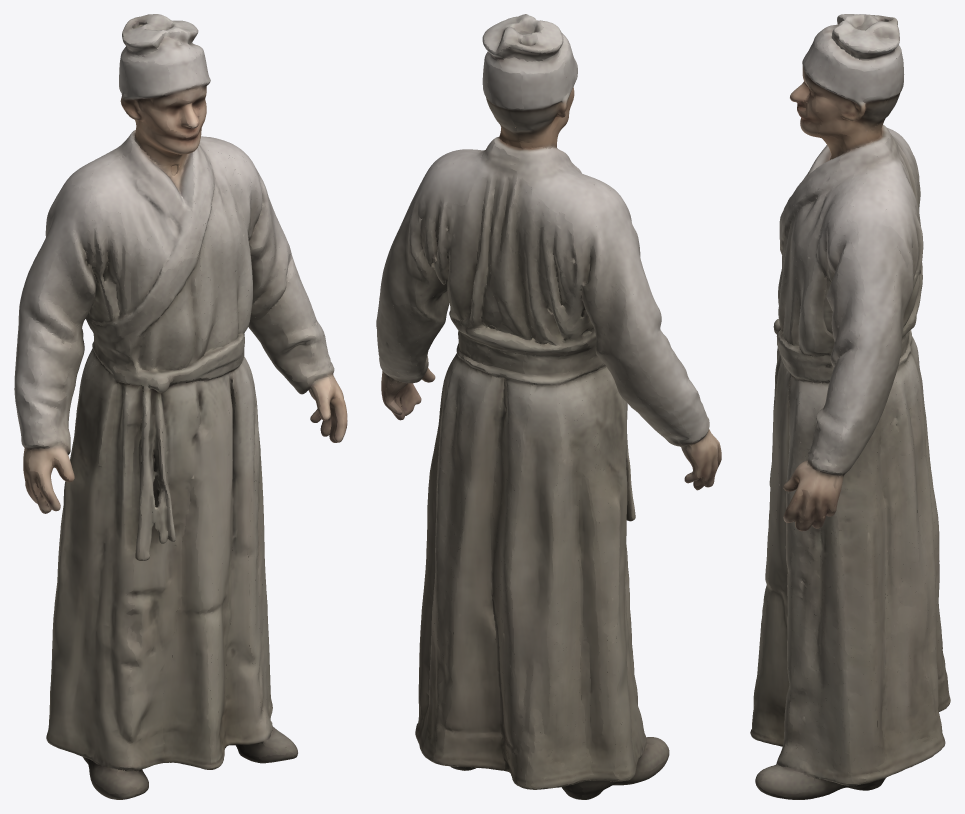
File: shop-assistant.glb
3 renders of one model, left to right at view 1: azimuth 30°, elevation 25°; view 2: azimuth 150°, elevation 25°; view 3: azimuth 270°, elevation 25°, orthographic. The views are drawn at different scales.
Parts seen in each view (by area): view 1: world; view 2: world; view 3: world.
Part boxes in pixels (x1=…): world: x1=14, y1=14, x2=347, y2=799; world: x1=376, y1=14, x2=721, y2=799; world: x1=750, y1=14, x2=950, y2=799.
Size of the model in its own units: 0.7926 by 1.75 by 0.43.
Materials: 1 (1 with a texture image).
